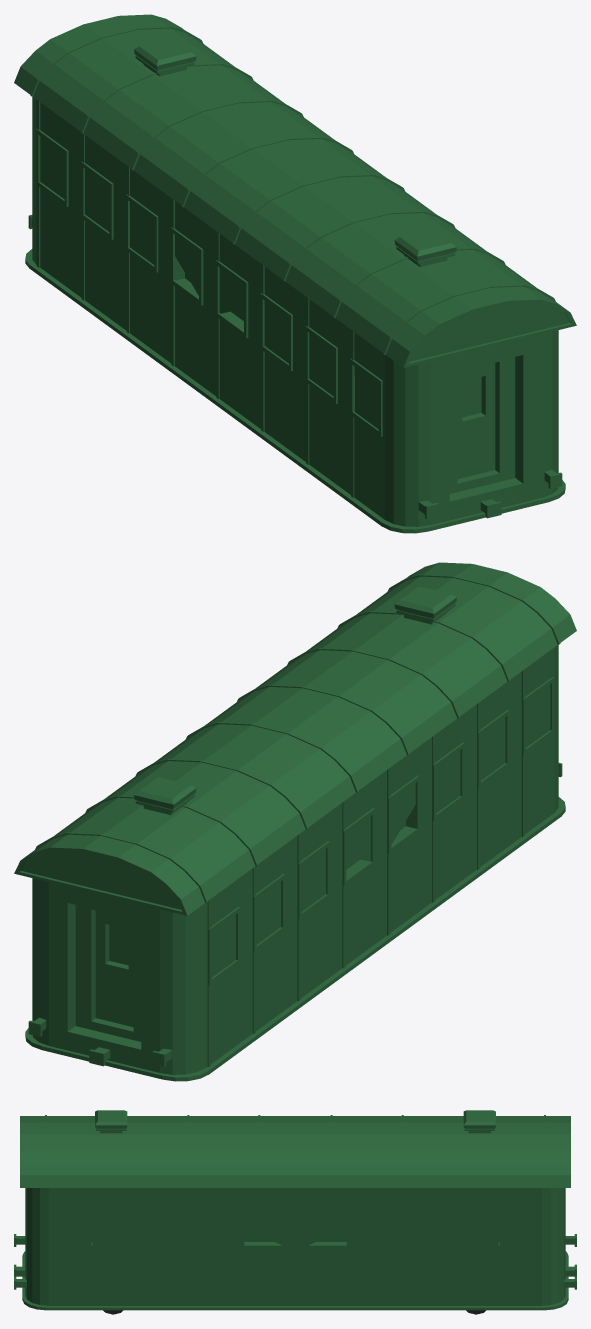
The model's file is passenger-wagon.glb.
3 views of the same model, one above another, from view 1: azimuth 30°, elevation 25°; view 2: azimuth 150°, elevation 25°; view 3: azimuth 270°, elevation 25° (orthographic). The views are drawn at different scales.
Visible parts, largest first — view 1: Locomotive_PassengerWagon_Cube.012; view 2: Locomotive_PassengerWagon_Cube.012; view 3: Locomotive_PassengerWagon_Cube.012.
Part boxes in pixels (x1,y1,x2,y2): Locomotive_PassengerWagon_Cube.012: (14, 14, 576, 533); Locomotive_PassengerWagon_Cube.012: (14, 562, 576, 1081); Locomotive_PassengerWagon_Cube.012: (14, 1110, 576, 1310).
Bounding box in the file's own units: 2.1 × 2.95 × 8.06.
